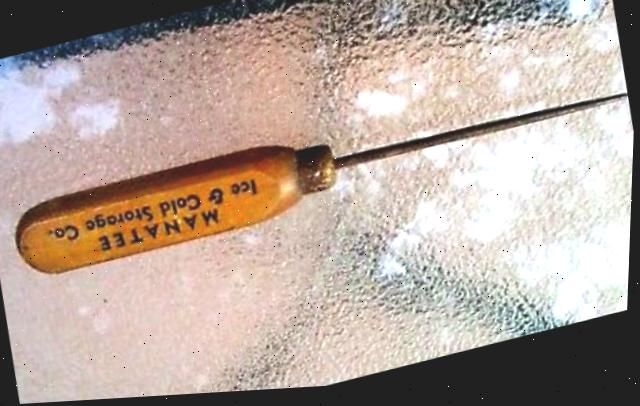ice pick: (8, 62, 636, 286)
